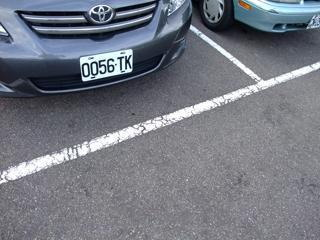plate: (77, 49, 134, 81)
